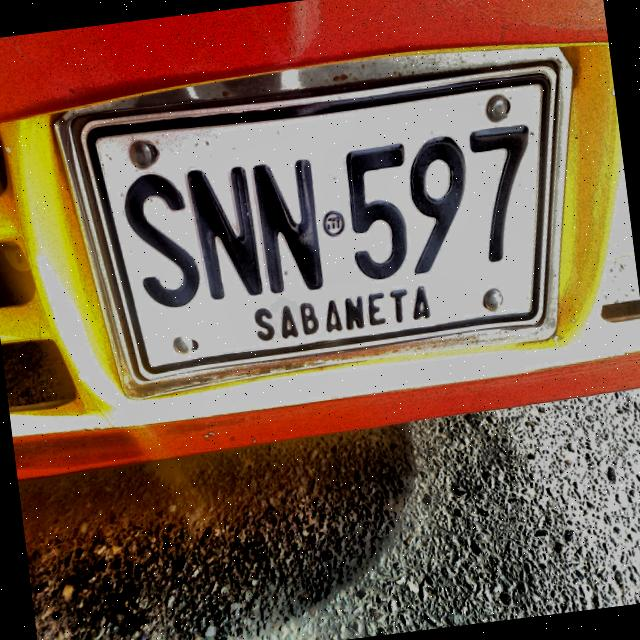5: (340, 136, 412, 287)
7: (466, 120, 533, 274)
9: (407, 127, 473, 279)
N: (179, 159, 268, 306), (249, 154, 329, 297)
S: (110, 165, 211, 316)
